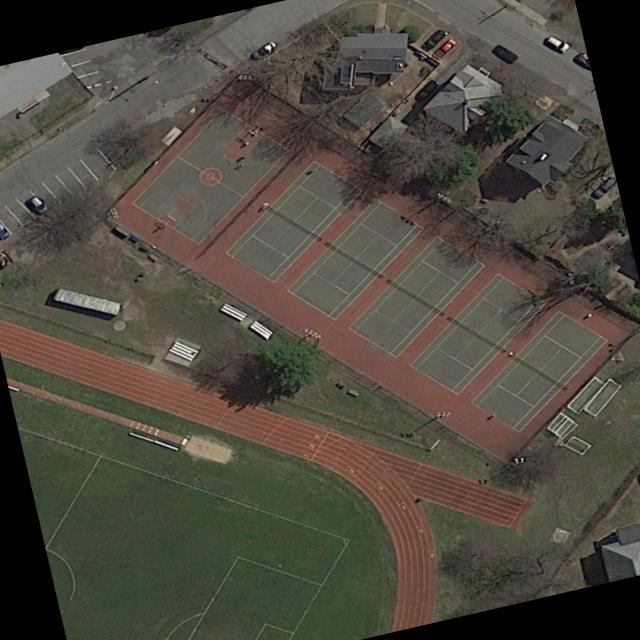small-vehicle: (248, 38, 278, 62), (488, 43, 518, 65), (23, 193, 51, 216), (420, 28, 447, 51), (430, 38, 458, 60), (590, 176, 616, 199), (412, 79, 439, 101), (542, 35, 571, 54), (0, 221, 12, 242)
